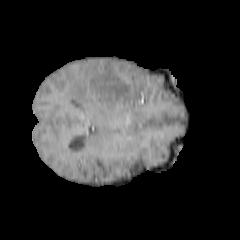glioma: (64, 58, 152, 118)
